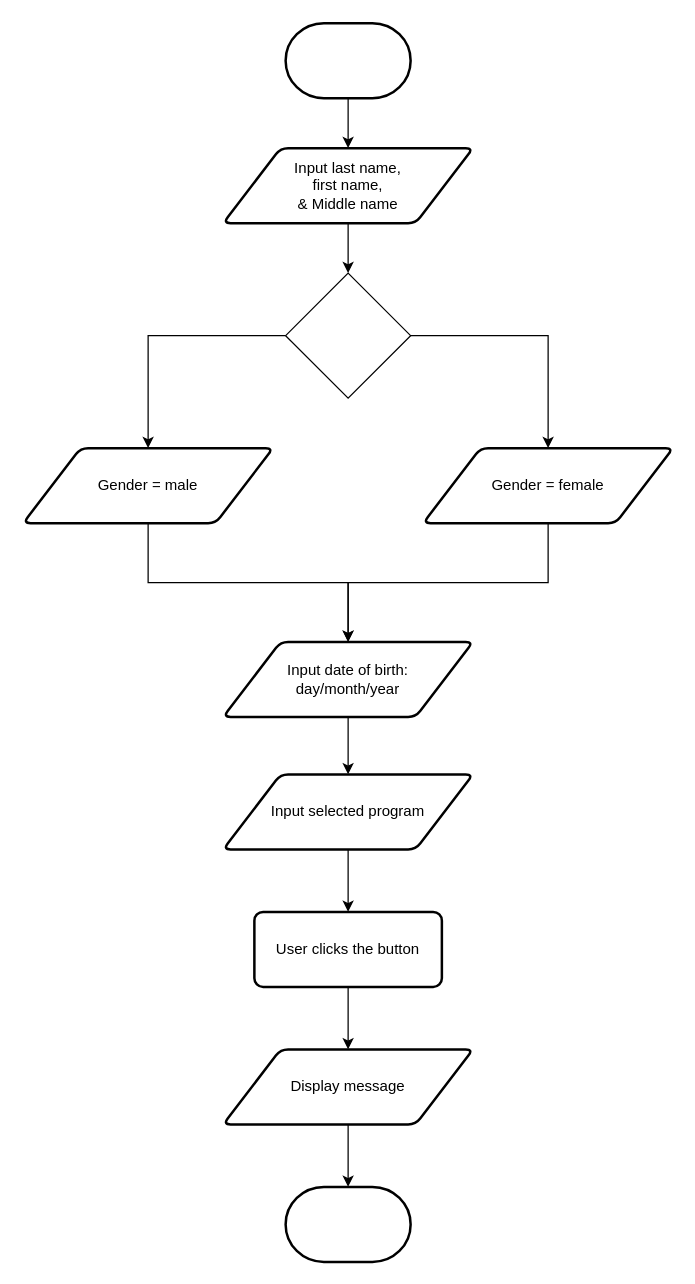
Some shapes in this 695 by 1284 pixel diagram are drawn without their labels. The shapes that lost their labels are listed below. From the top down, each one's box as (x1, y1, x2, y2) in pixels, then its label:
(284, 21, 411, 99): Start
(284, 272, 411, 398): If male is checked
(284, 1185, 411, 1262): End
